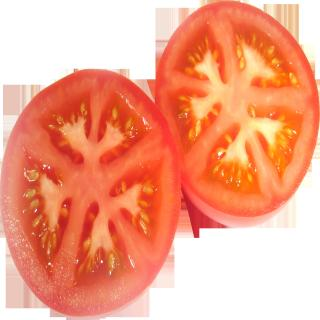Tomat: (2, 3, 320, 317)
